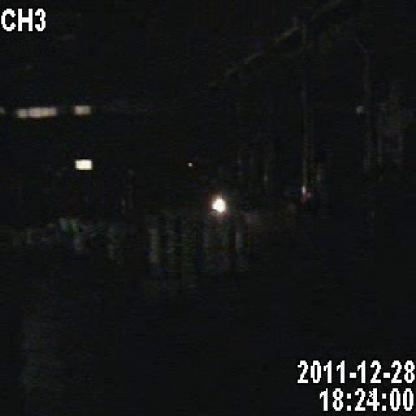fire: (202, 187, 241, 221)
